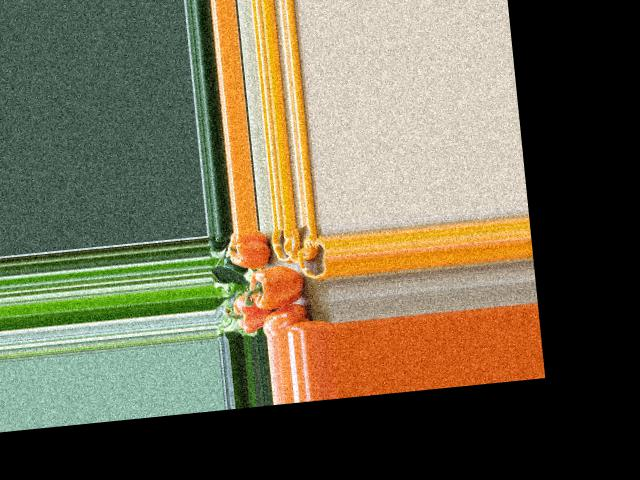bell_pepper: (259, 303, 312, 336)
